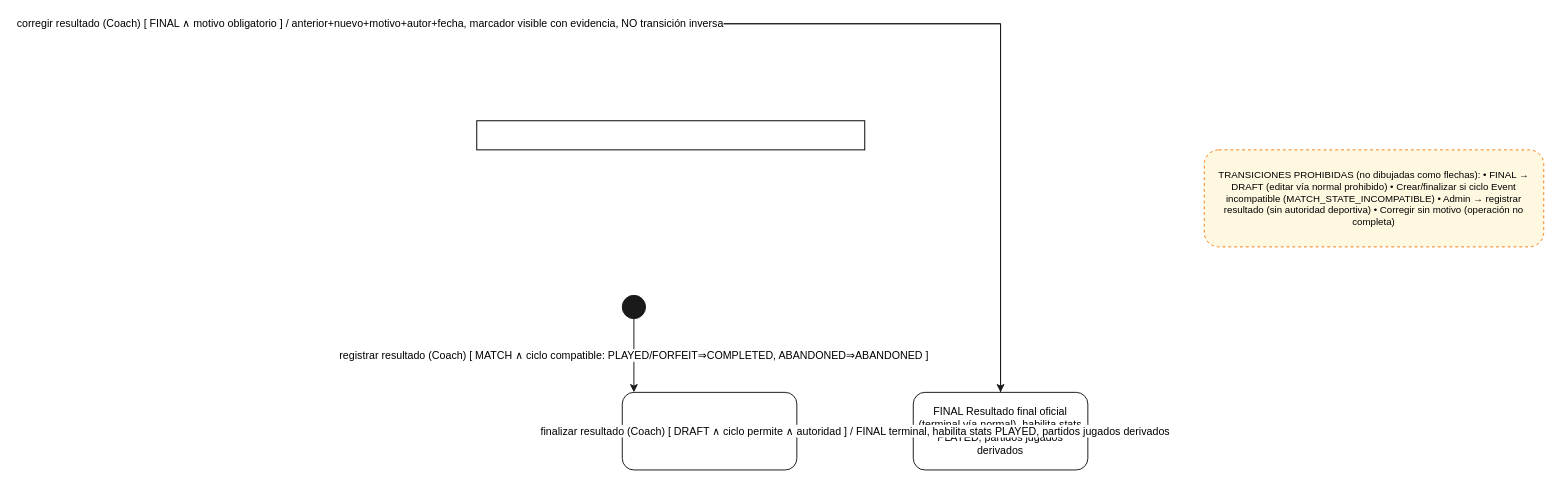
Image size: 1561x487. Some labels were removed from this diagram. Each missing label, with the centre of its shape:
DRAFT Borrador de resultado, editable: (709,430)
MatchRecord Lifecycle: (670,135)
